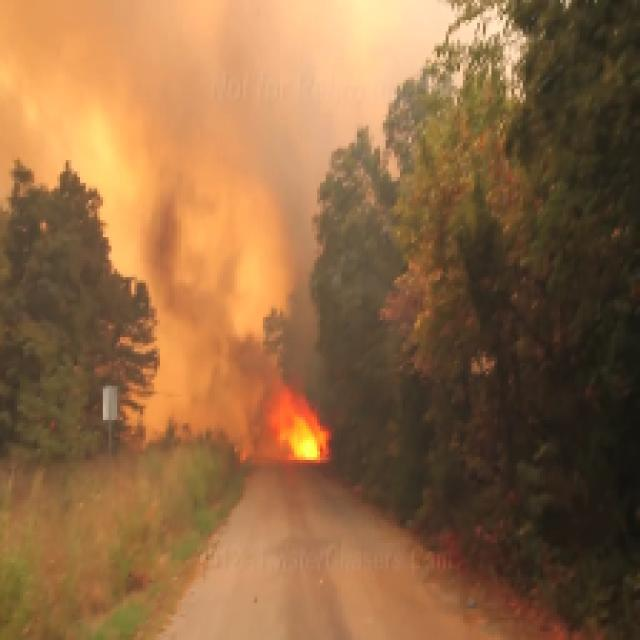Fire: (237, 380, 334, 457)
Smoke: (123, 57, 303, 286)
